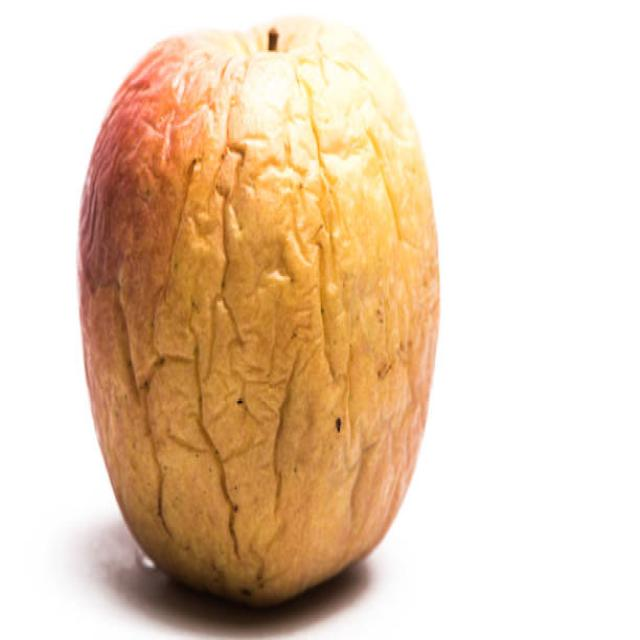overripe: (72, 14, 443, 608)
